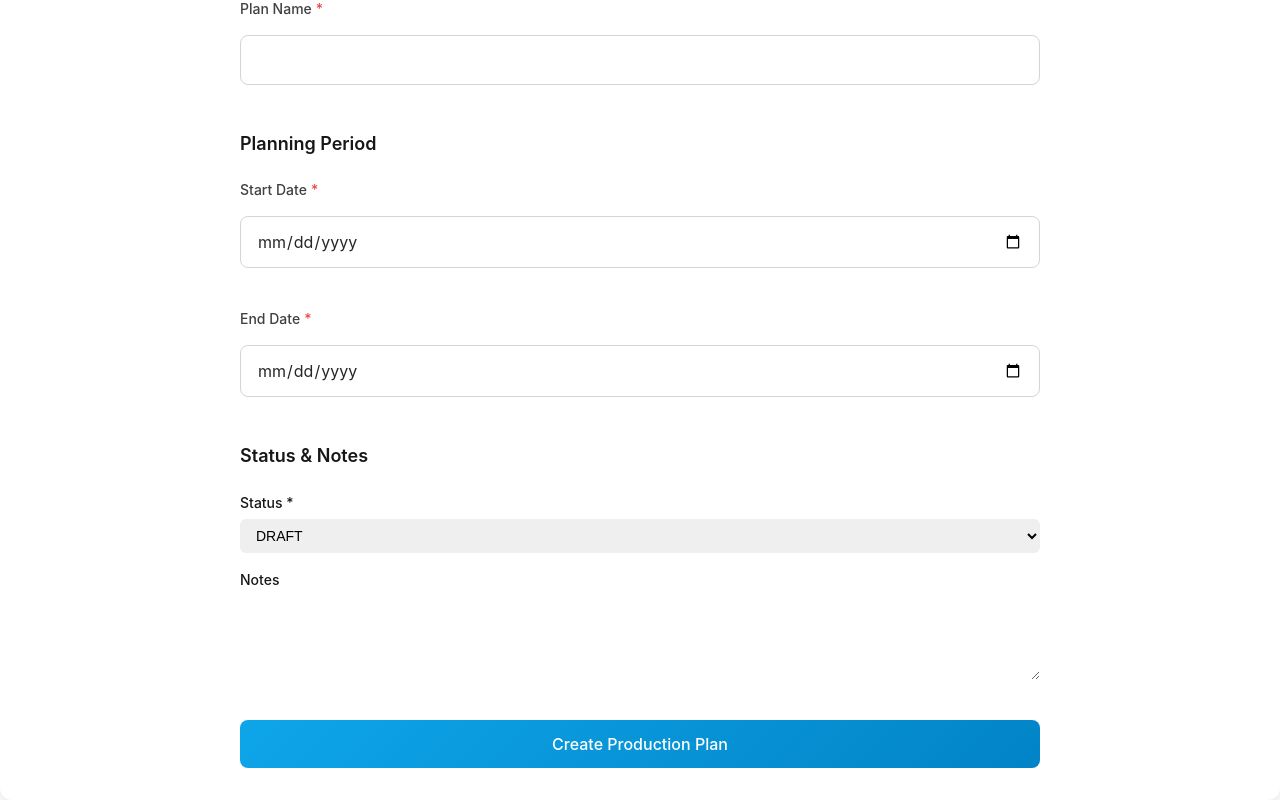
Scenario: ProductionPlanForm - Create Mode › should validate required fields
(page scrolled)
Click the button "Create Production Plan" at point(640, 744), box [240,720,1040,768]
(page scrolled)
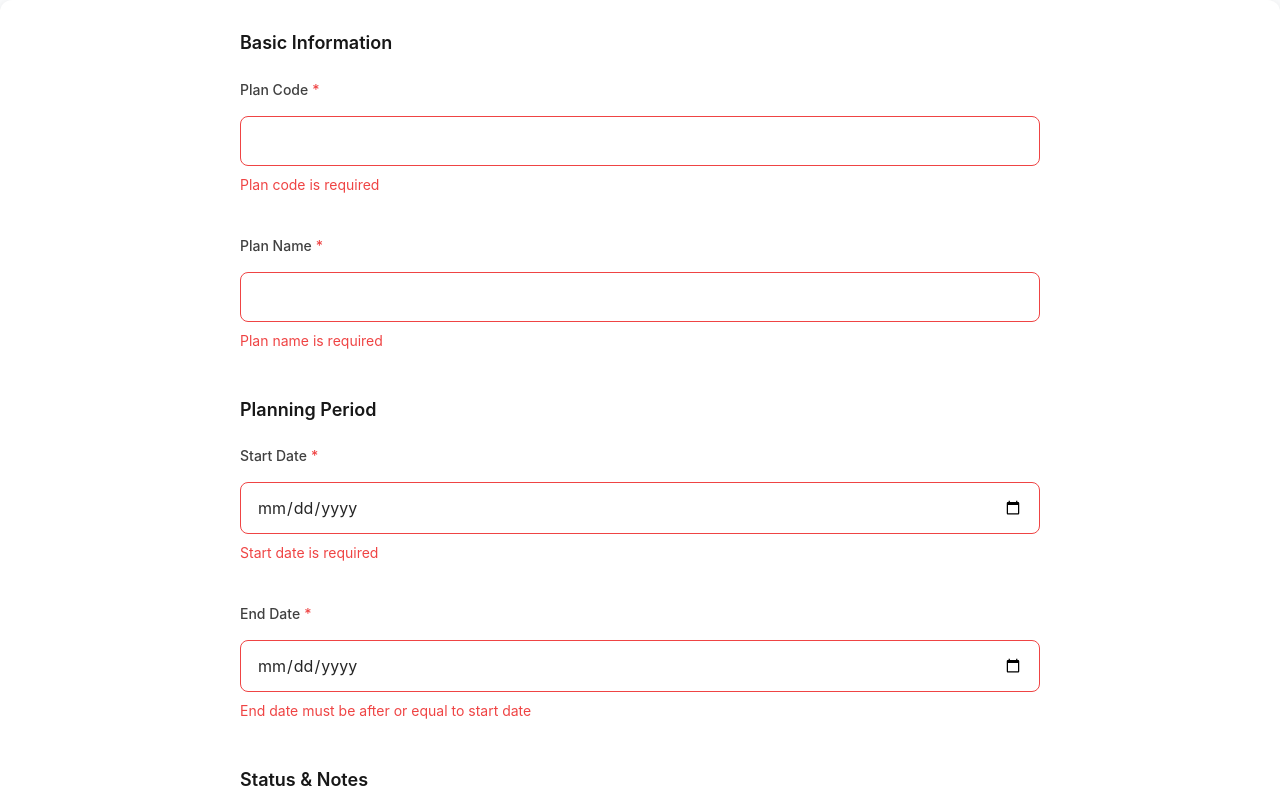
Check: the text "Plan code is required" is shown, box [240,176,379,192]
